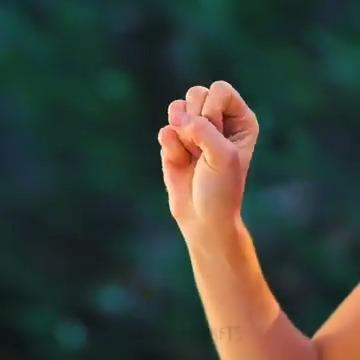Yes: (126, 77, 270, 239)
